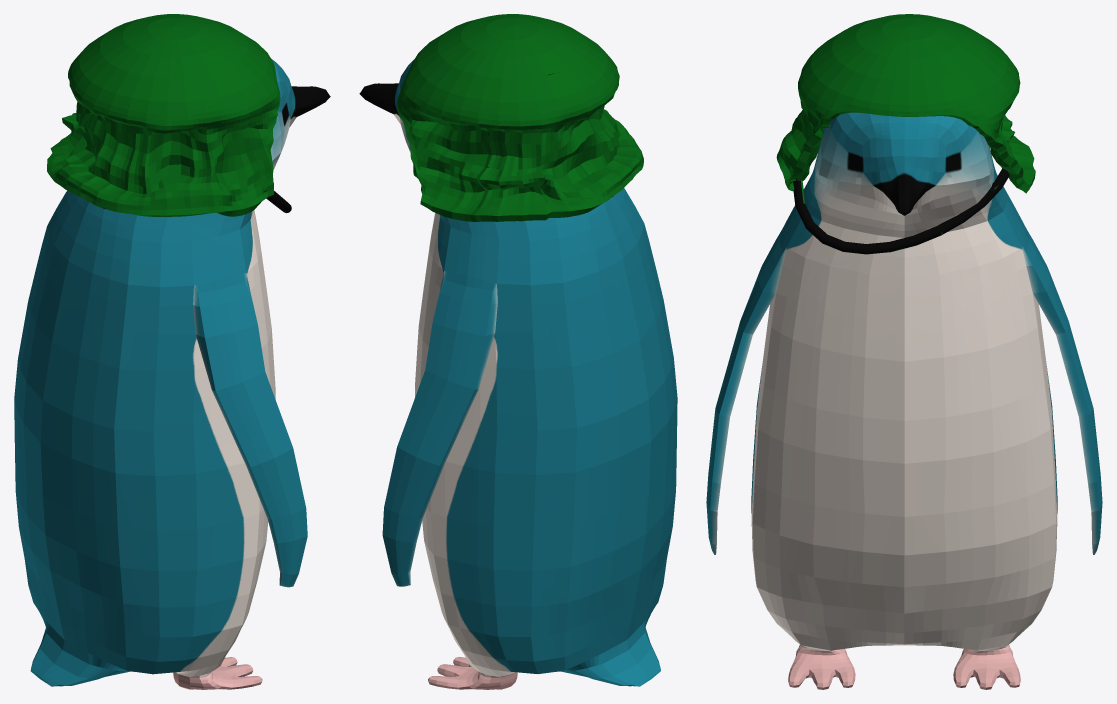
The model's file is armyPeng.fbx.
The picture shows the model from 3 angles, left to right: view 1: azimuth 30°, elevation 25°; view 2: azimuth 150°, elevation 25°; view 3: azimuth 270°, elevation 25°; orthographic projection. The views are drawn at different scales.
Visible parts, largest first — view 1: Плоскость, Sphere; view 2: Плоскость, Sphere; view 3: Плоскость, Sphere.
Boxes of the visible parts, bbox=[...] form: Плоскость: bbox=[14, 59, 330, 689]; Sphere: bbox=[47, 14, 291, 216]; Плоскость: bbox=[359, 60, 677, 689]; Sphere: bbox=[397, 14, 643, 221]; Плоскость: bbox=[706, 112, 1102, 689]; Sphere: bbox=[776, 14, 1035, 254].
Bounding box in the file's own units: 175 × 361 × 200.
